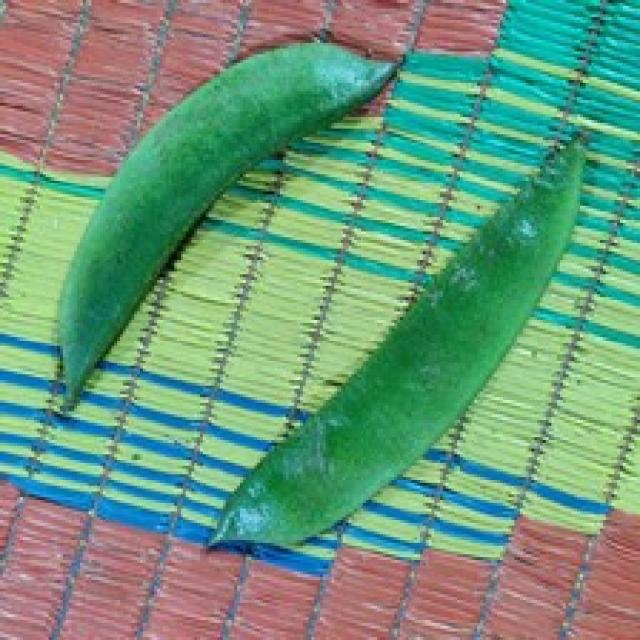Bean: (203, 128, 586, 552), (46, 37, 400, 420)
